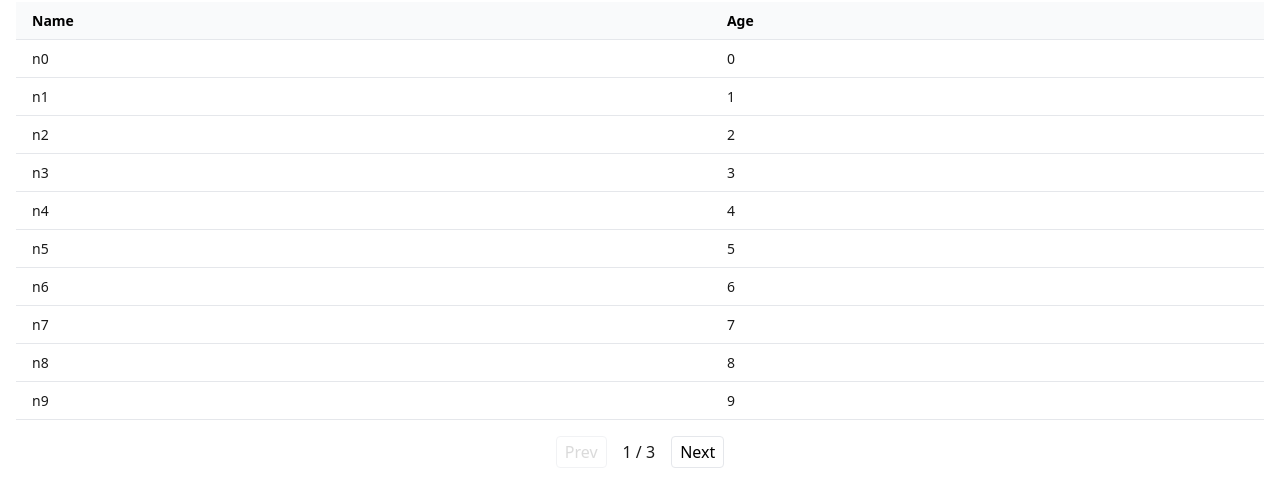
Test: DataTable › advances pages with Next button
Click the button "Next": (698,452) [671,436,724,468]
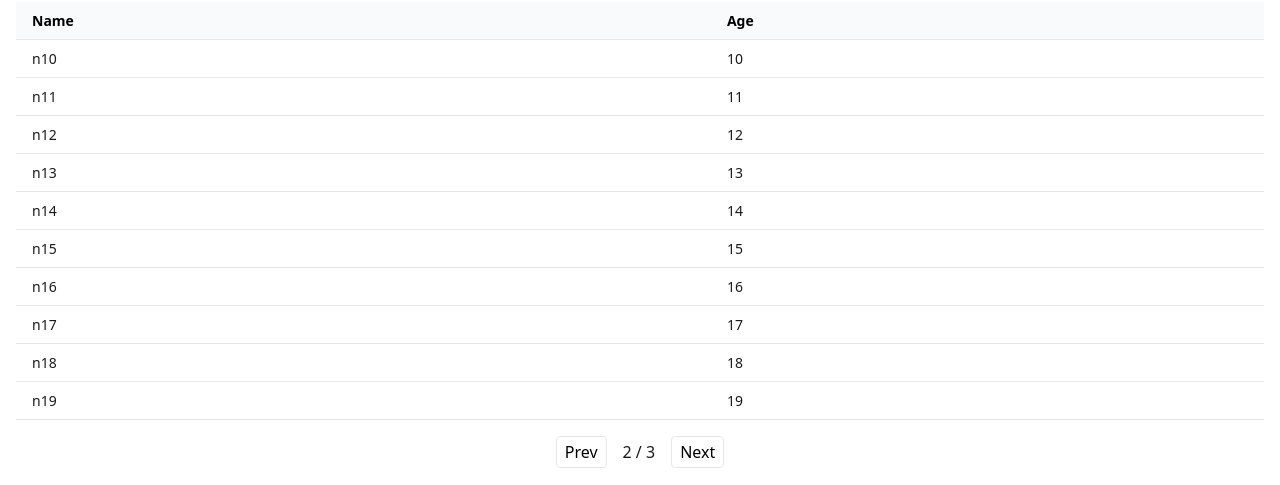
expect the text "2 / 3" is shown: met, box [622,440,655,464]
